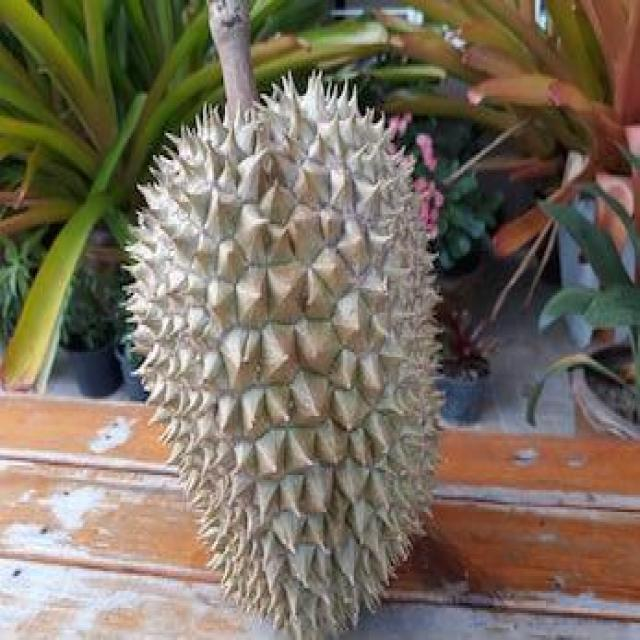mature: (128, 73, 439, 636)
